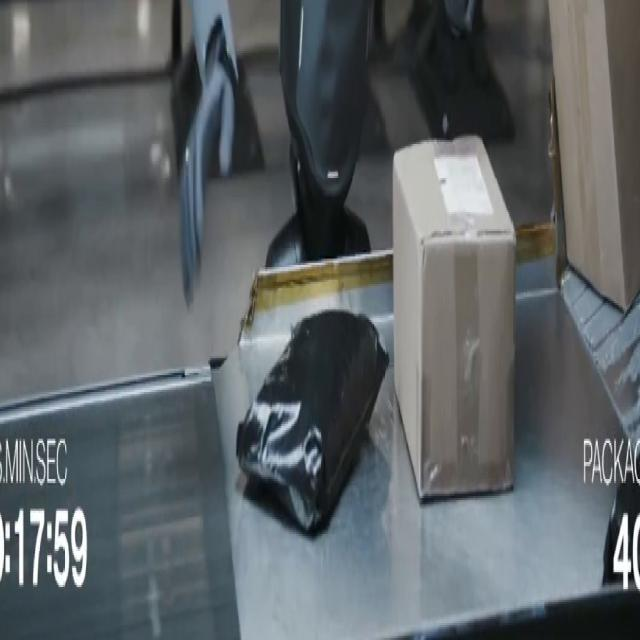package: (393, 138, 515, 498), (237, 310, 388, 534), (549, 0, 639, 309)
